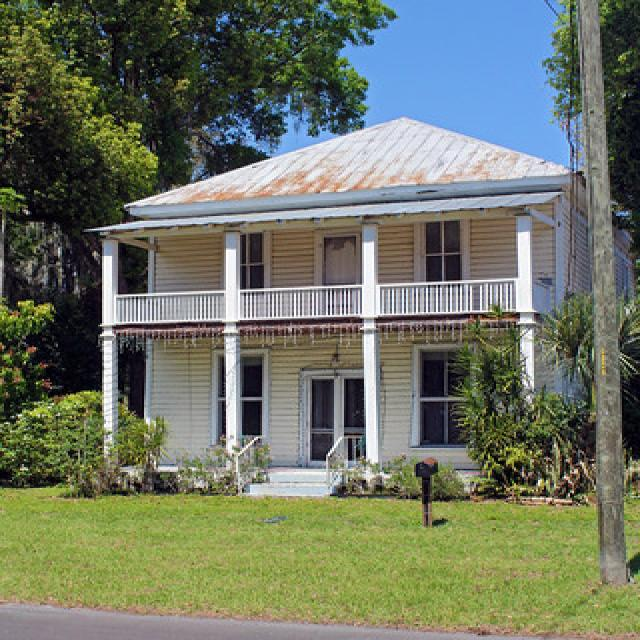building: (74, 117, 628, 499)
